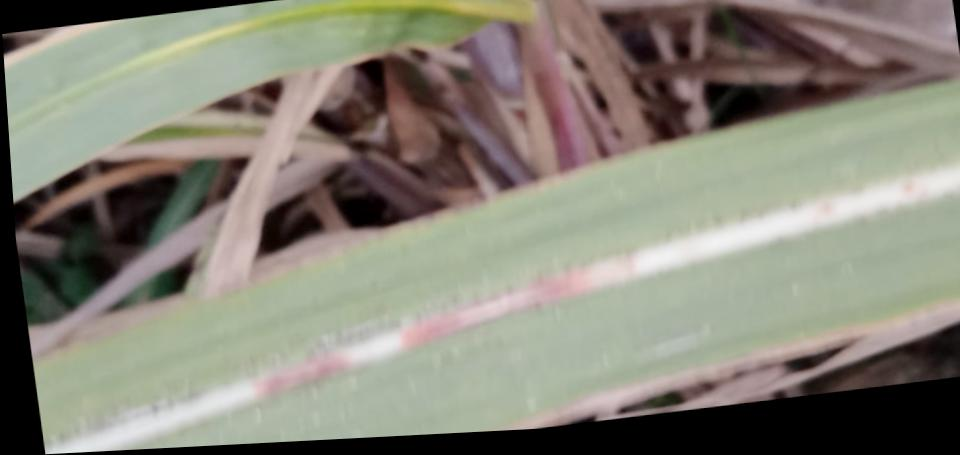RedRot: (401, 269, 589, 347), (254, 351, 353, 396)
